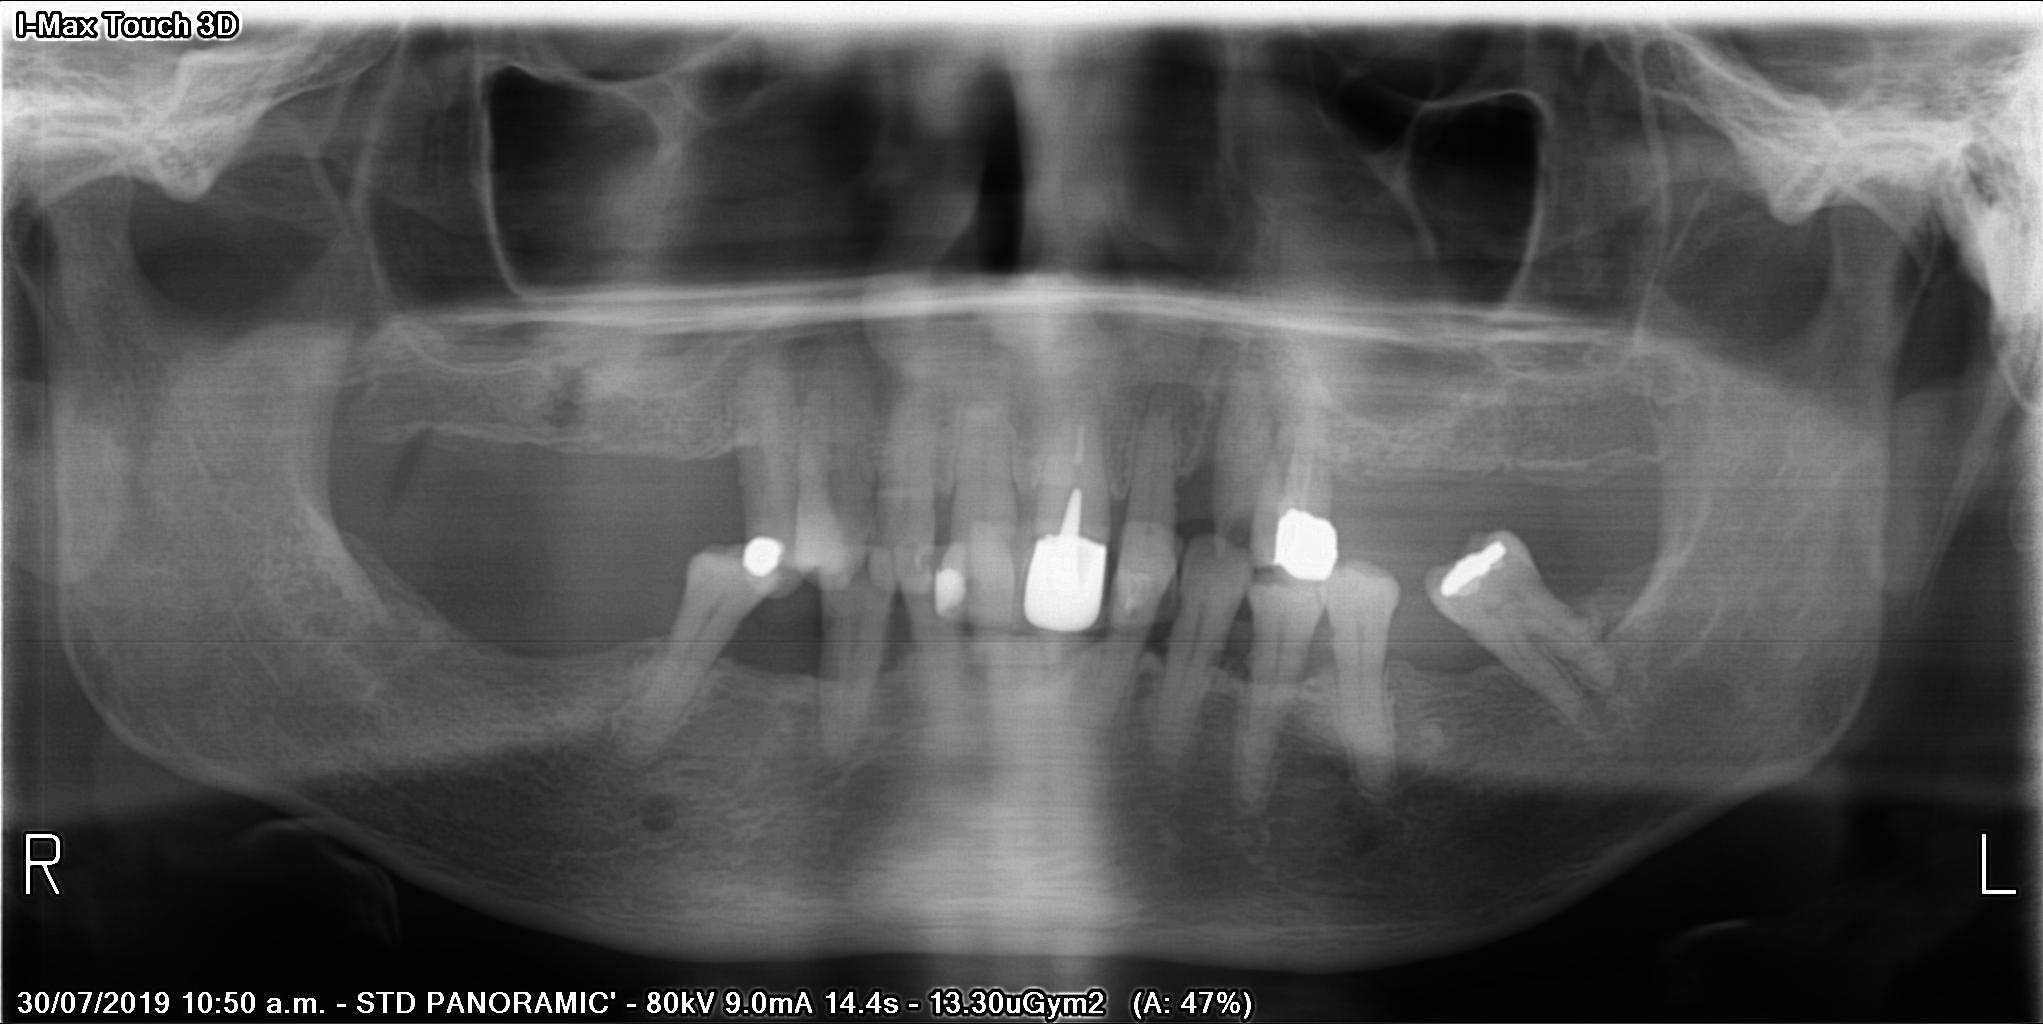Çürük: (1020, 519, 1116, 641), (1258, 491, 1352, 588), (1424, 521, 1516, 602), (922, 552, 974, 619), (738, 522, 791, 585)
